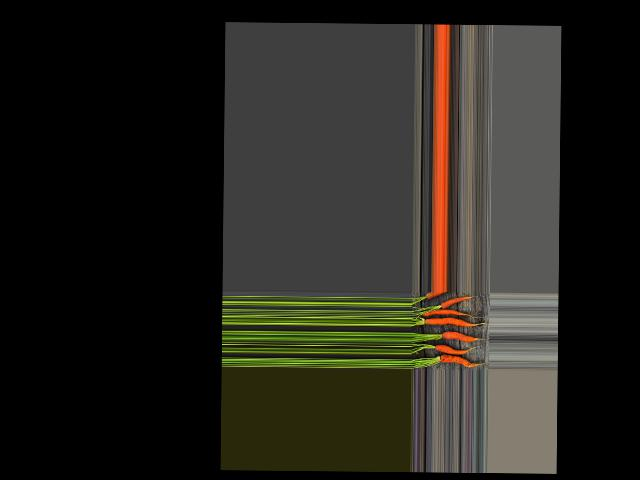carrot: (418, 291, 440, 302)
